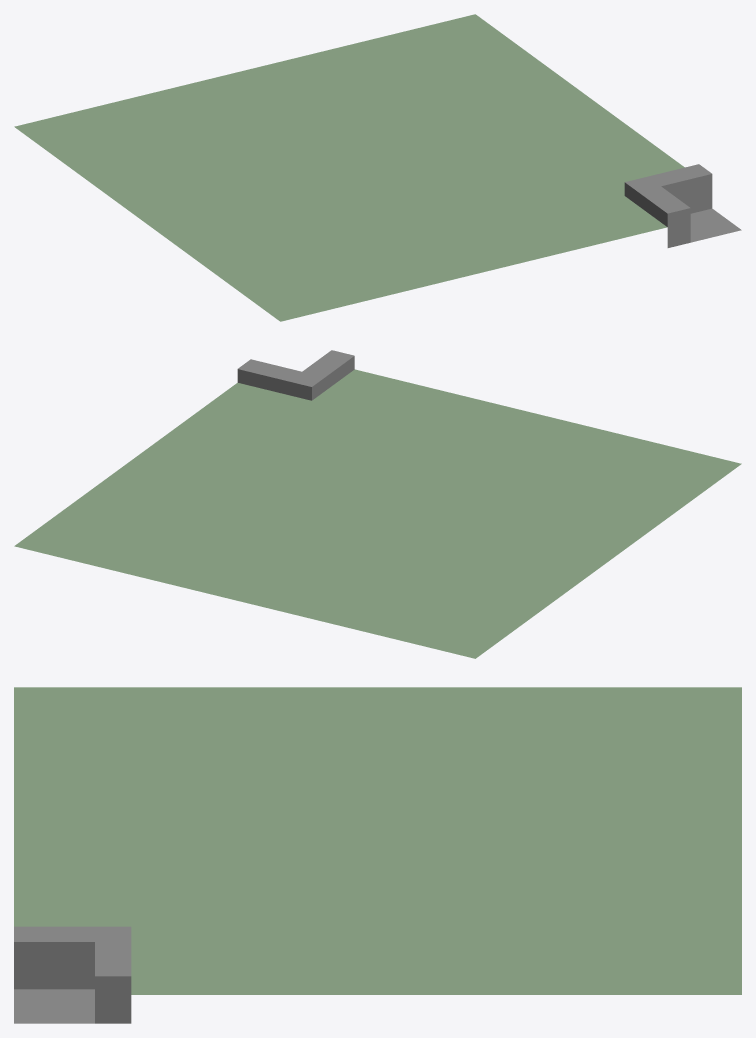
File: park_interiorCorner_mesh.fbx
The picture shows the model from 3 angles, top to bottom: view 1: azimuth 30°, elevation 25°; view 2: azimuth 150°, elevation 25°; view 3: azimuth 270°, elevation 25°; orthographic projection. The views are drawn at different scales.
Visible parts, largest first — view 1: park_interiorCorner_mesh; view 2: park_interiorCorner_mesh; view 3: park_interiorCorner_mesh.
Part boxes in pixels (left/top/right/bottom): park_interiorCorner_mesh: left=14, top=14, right=741, bottom=321; park_interiorCorner_mesh: left=14, top=350, right=741, bottom=658; park_interiorCorner_mesh: left=14, top=687, right=741, bottom=1023.
Bounding box in the file's own units: 1 × 0.0718 × 1.
